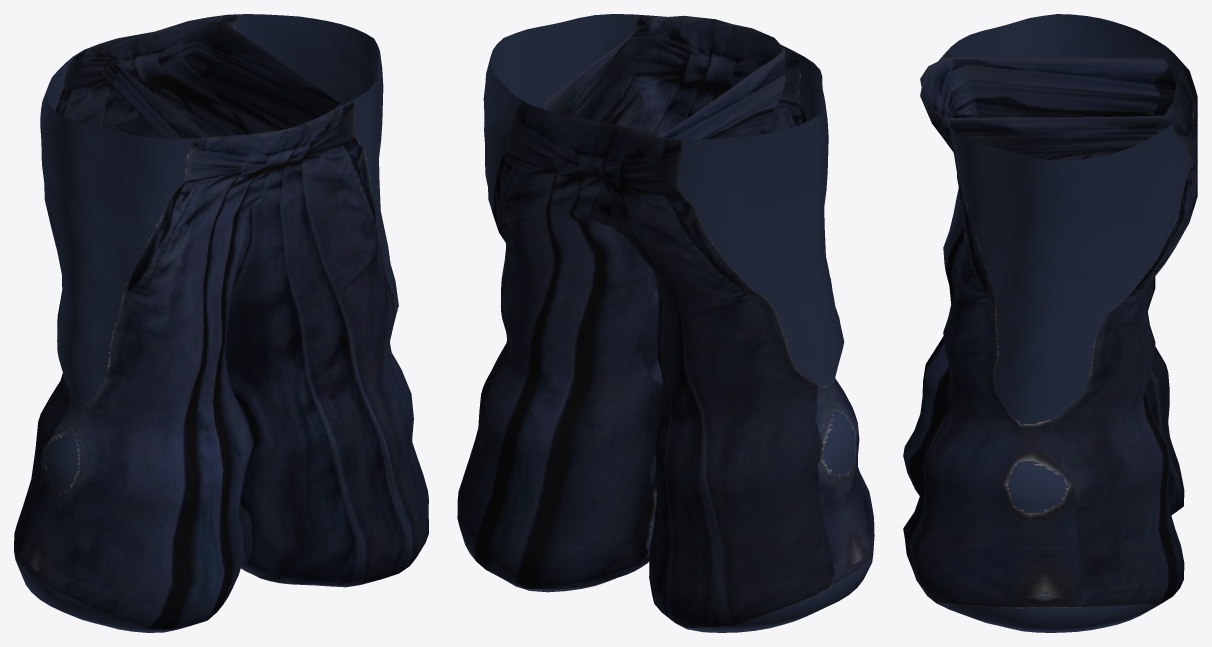
File: hakama.glb
3 renders of one model, left to right at view 1: azimuth 30°, elevation 25°; view 2: azimuth 150°, elevation 25°; view 3: azimuth 270°, elevation 25°, orthographic. The views are drawn at different scales.
Visible parts, largest first — view 1: RightUpLeg, LeftUpLeg; view 2: RightUpLeg, LeftUpLeg; view 3: LeftUpLeg, RightUpLeg.
Boxes of the visible parts, <box> form: RightUpLeg: <box>14,21,340,632</box>; LeftUpLeg: <box>101,14,428,587</box>; RightUpLeg: <box>544,15,874,632</box>; LeftUpLeg: <box>457,14,785,592</box>; LeftUpLeg: <box>903,57,1197,632</box>; RightUpLeg: <box>903,14,1197,515</box>.
Size of the model in its own units: 0.4588 by 0.57 by 0.3224.
1 material, 1 textured.
